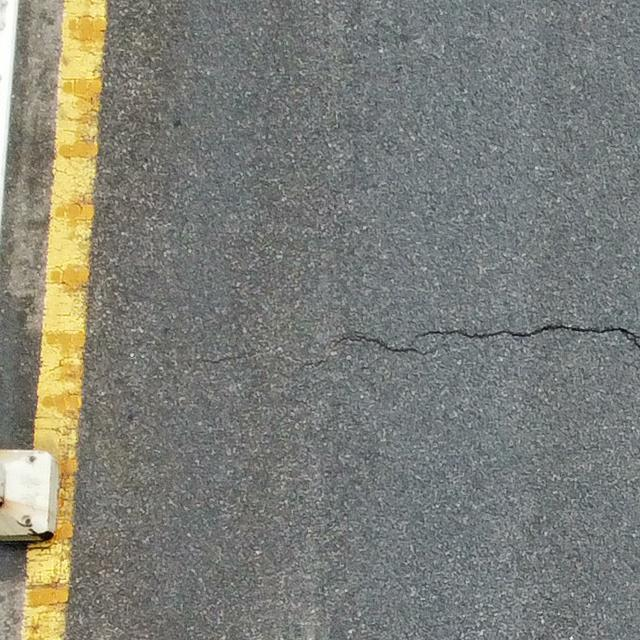TransverseCrack: (328, 322, 640, 357)
